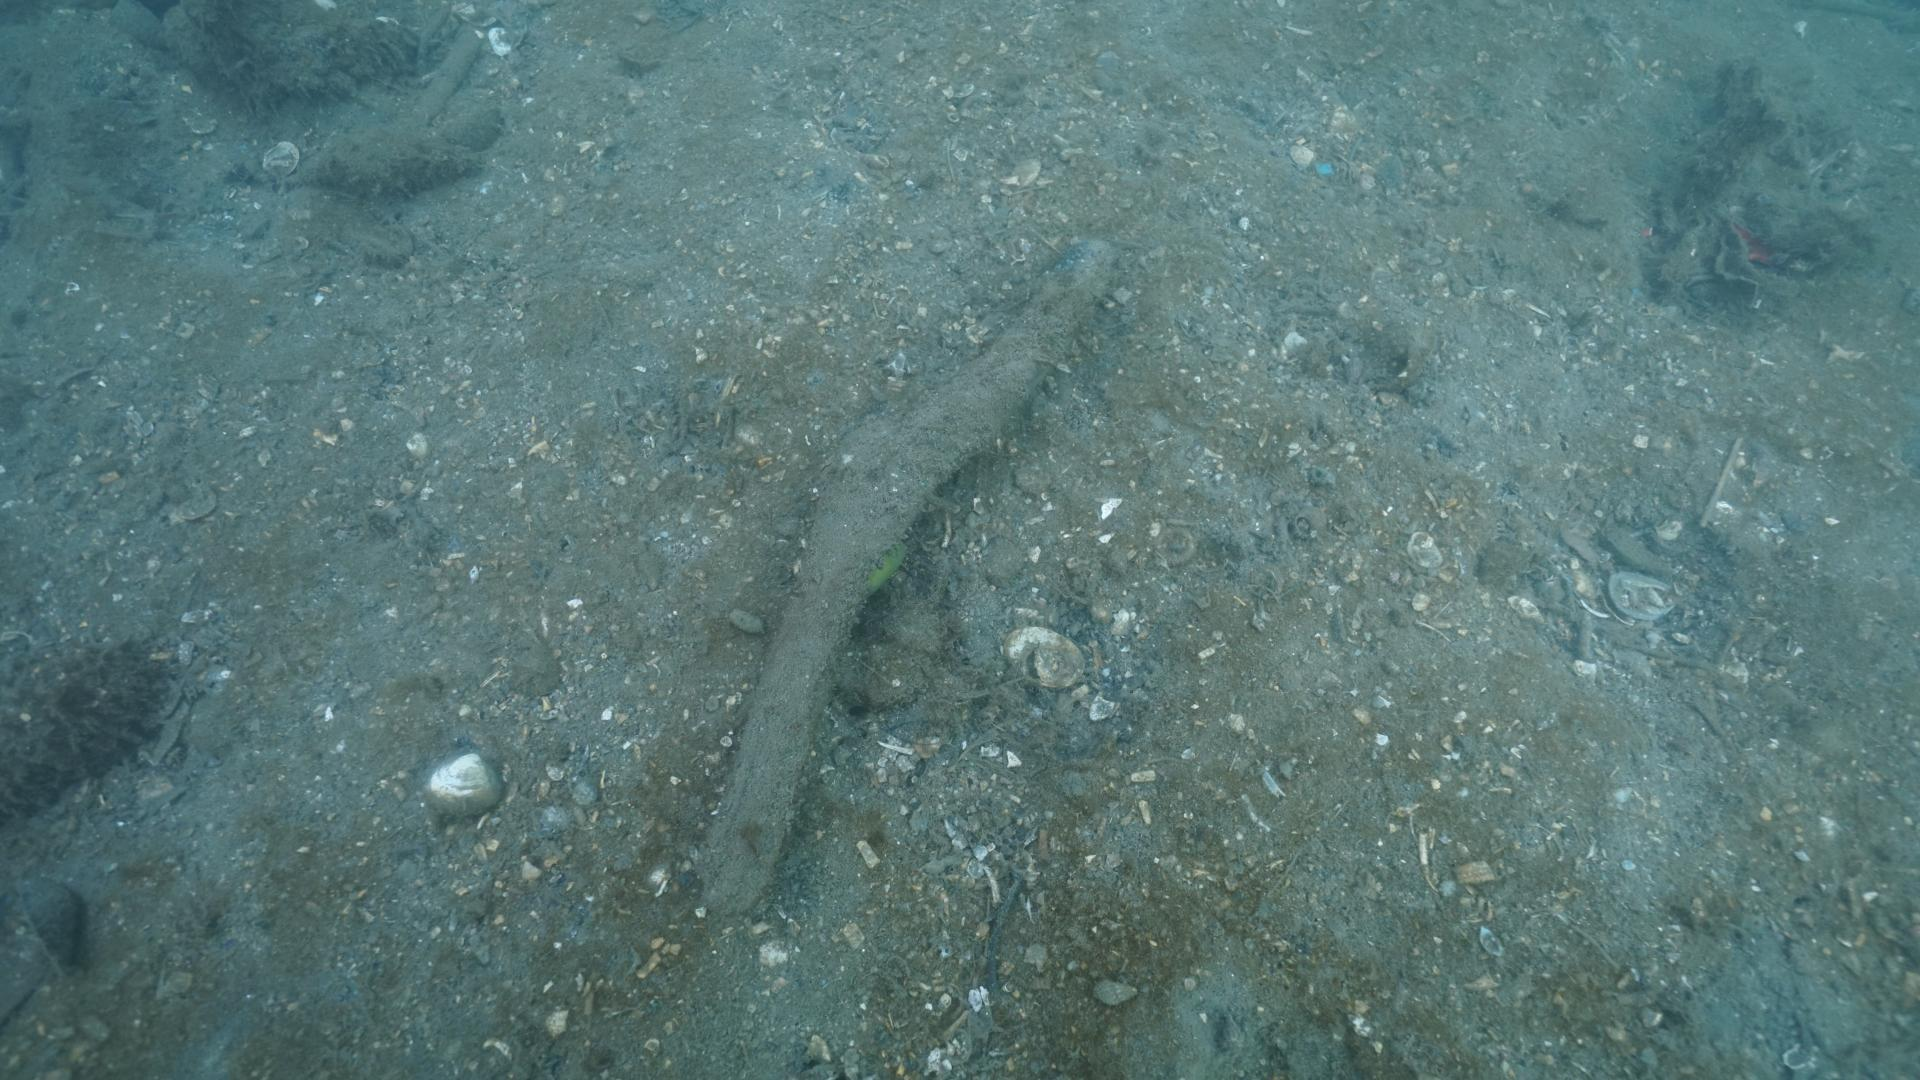wood: (690, 236, 1129, 910)
